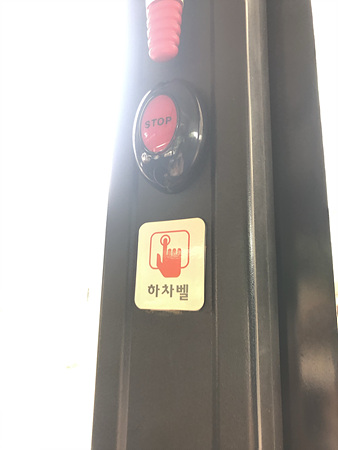bell: (133, 79, 206, 191)
